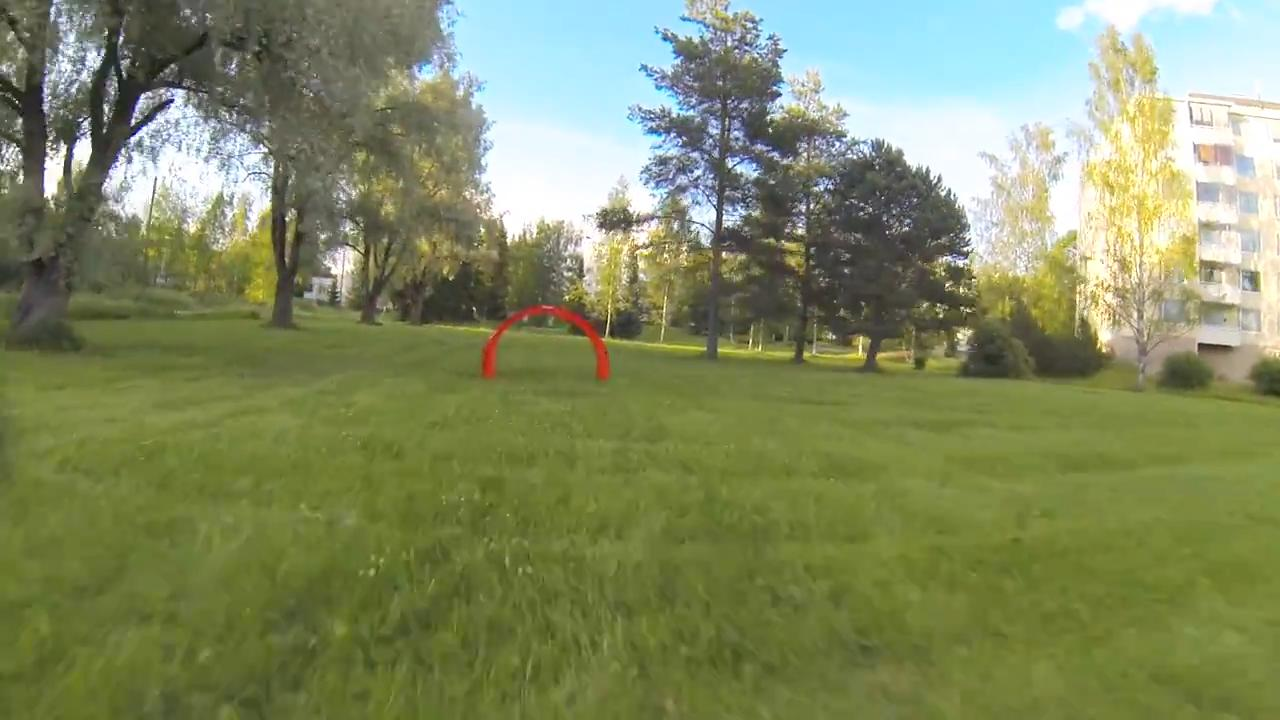gate: (478, 300, 610, 381)
